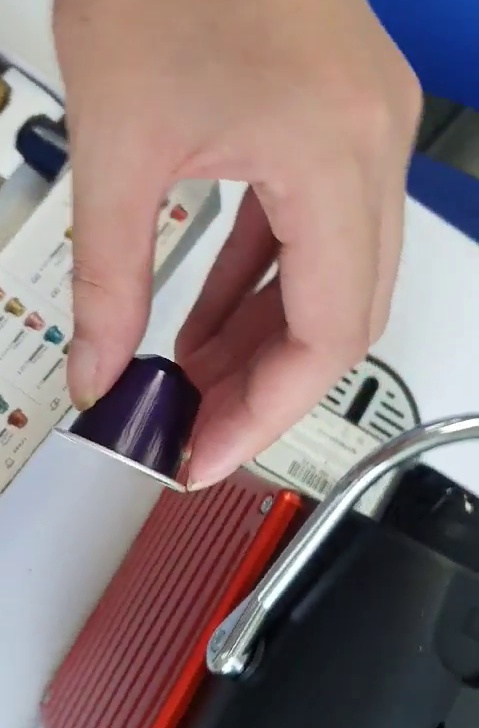capsule_2: (56, 350, 197, 495)
